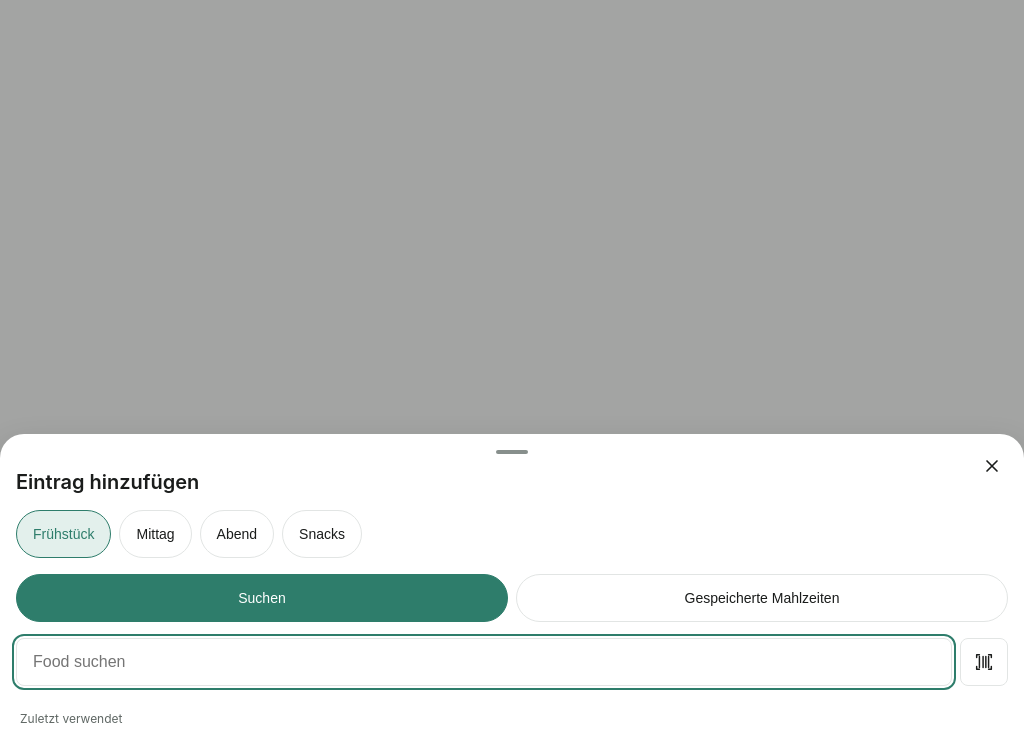
it: FoodEntrySheetComponent › Barcode-Scan (ADR-0010) › an incomplete OFF hit (scanPhase "prefill-create") auto-switches to Step A2 with the barcode shown
The image size is (1024, 752).
Click the button named "Barcode scannen".
click(984, 662)  # box [960,638,1008,686]
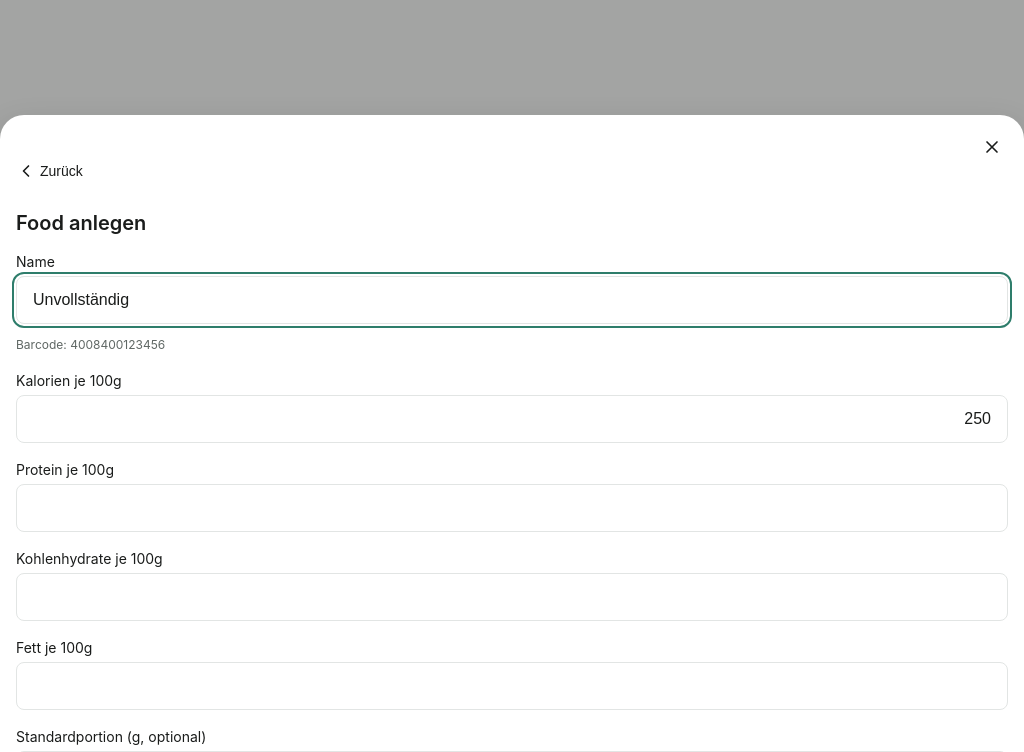
Expected: the text with class "barcode-info" shows "4008400123456", [16,337,165,352]
